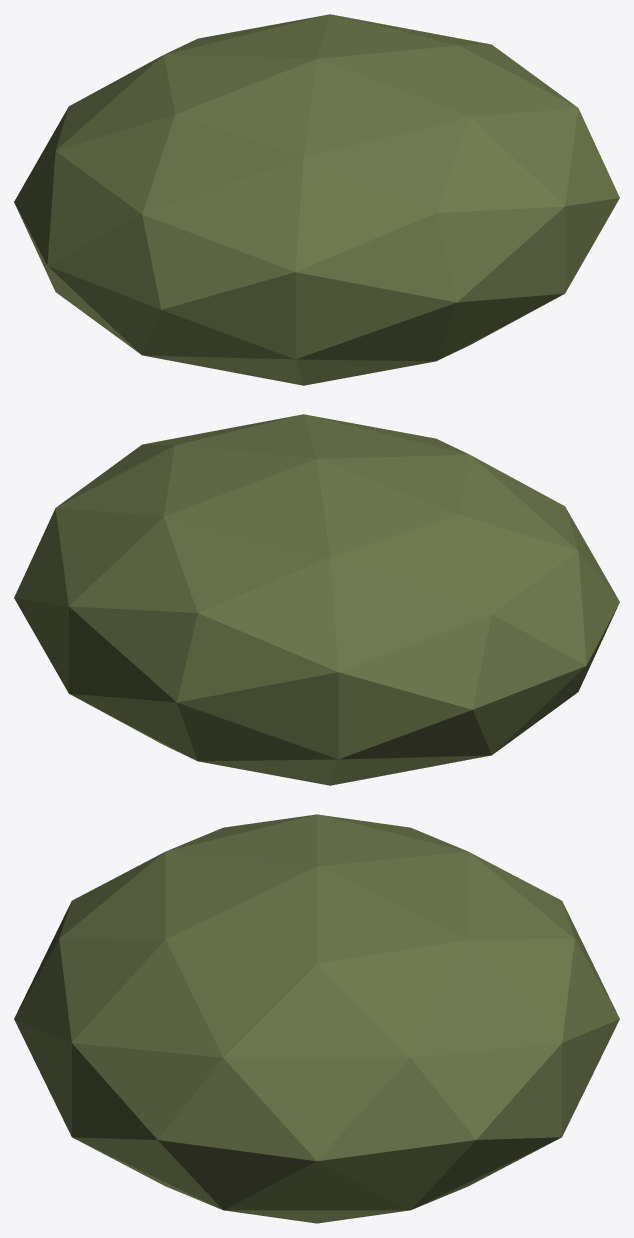
The model's file is grass_hill.glb.
3 views of the same model, one above another, from view 1: azimuth 30°, elevation 25°; view 2: azimuth 150°, elevation 25°; view 3: azimuth 270°, elevation 25° (orthographic). The views are drawn at different scales.
Visible parts, largest first — view 1: world-scenery/grass_hill; view 2: world-scenery/grass_hill; view 3: world-scenery/grass_hill.
Boxes of the visible parts, <box> form: world-scenery/grass_hill: <box>14,14,619,385</box>; world-scenery/grass_hill: <box>14,414,619,785</box>; world-scenery/grass_hill: <box>14,814,619,1223</box>.
Bounding box in the file's own units: 6 × 3 × 5.4.
